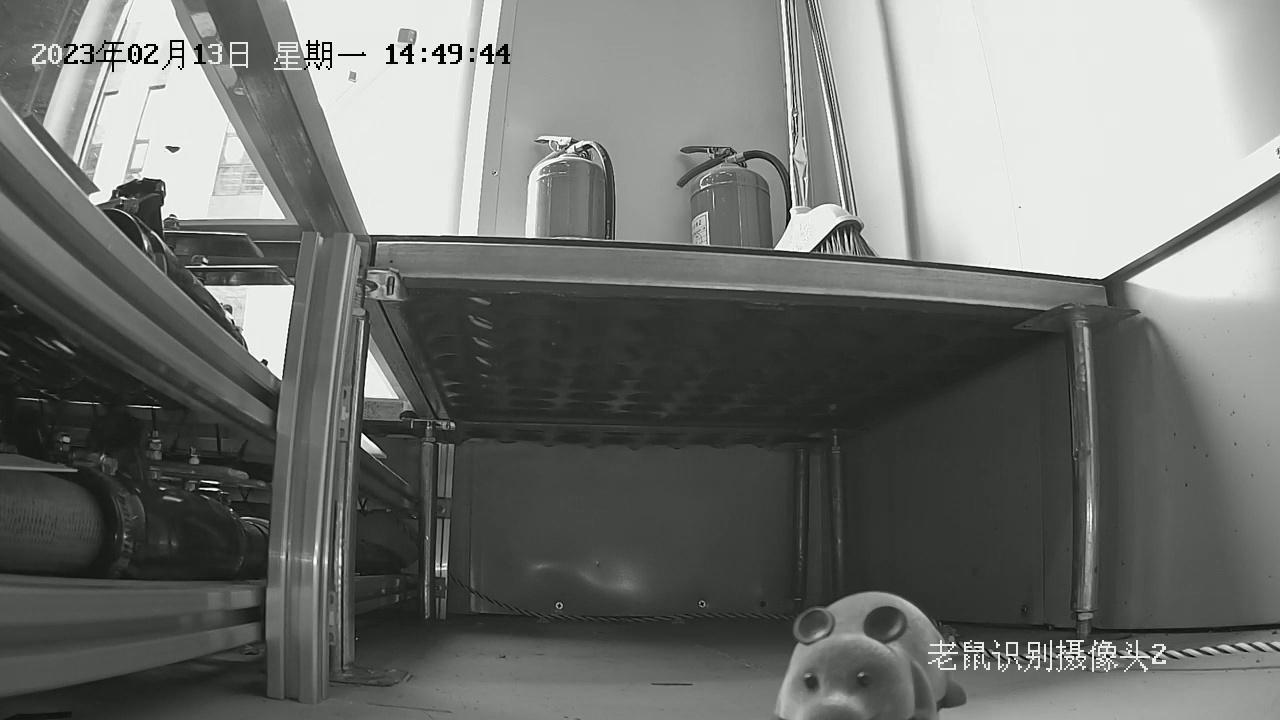rat: (771, 591, 971, 720)
